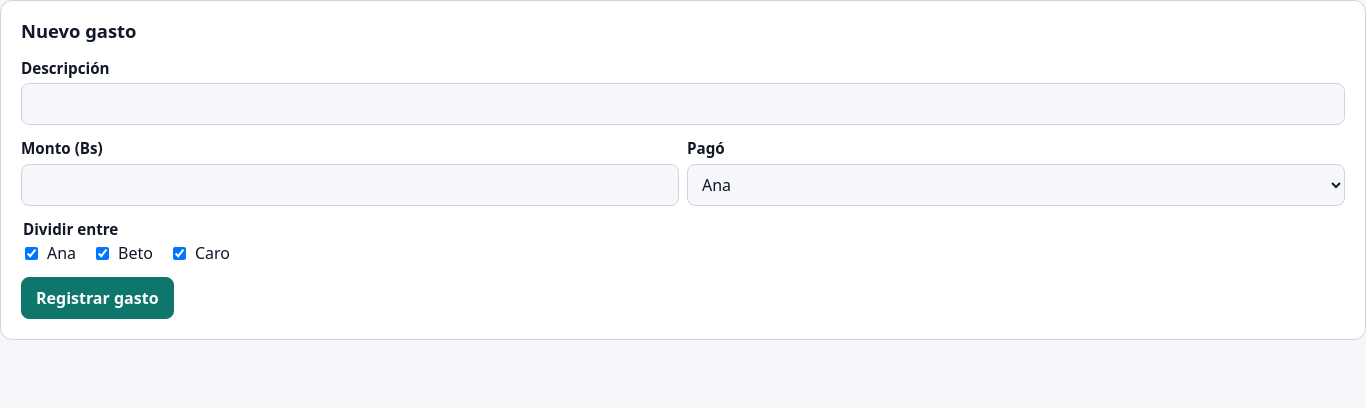
Test case: ExpenseForm (RQ-03) › clears the error messages after a valid expense
Step 1. Click the button "Registrar gasto" → (97, 298), box x1=21 y1=277 x2=174 y2=319
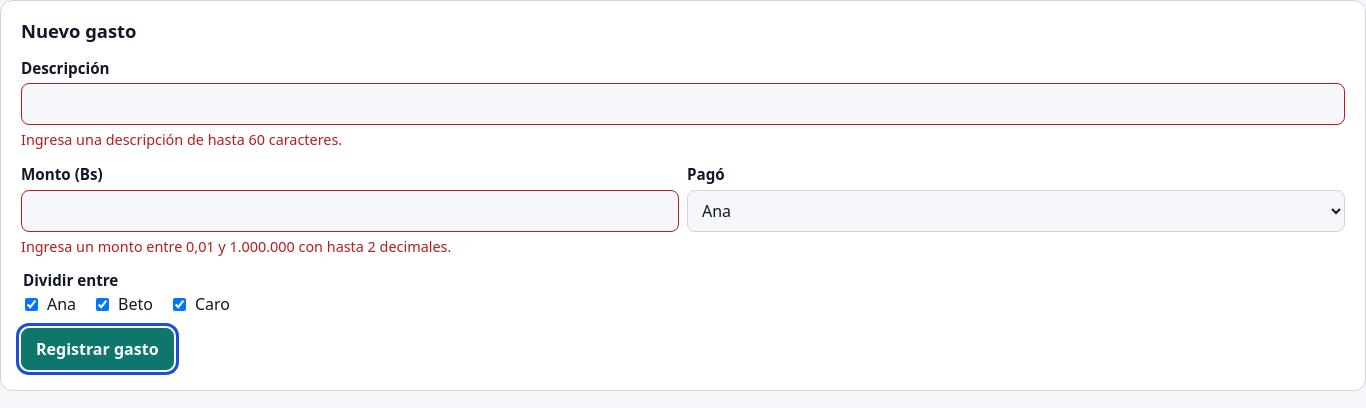
Step 2. Type "Cena" into the field labelled "Descripción" → (683, 104), box x1=21 y1=83 x2=1345 y2=125
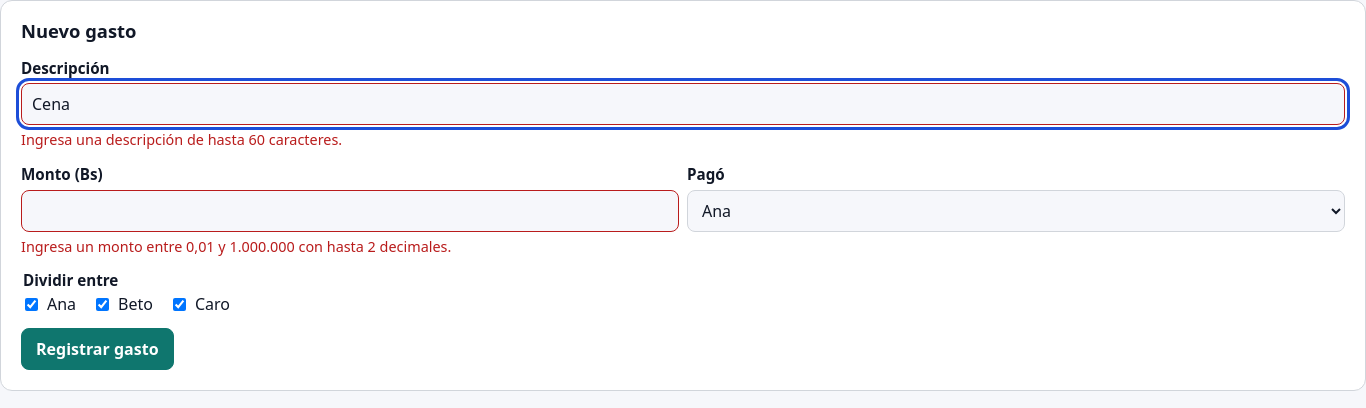
Step 3. Type "50" into the field labelled "Monto (Bs)" → (350, 211), box x1=21 y1=190 x2=679 y2=232
Then press Enter
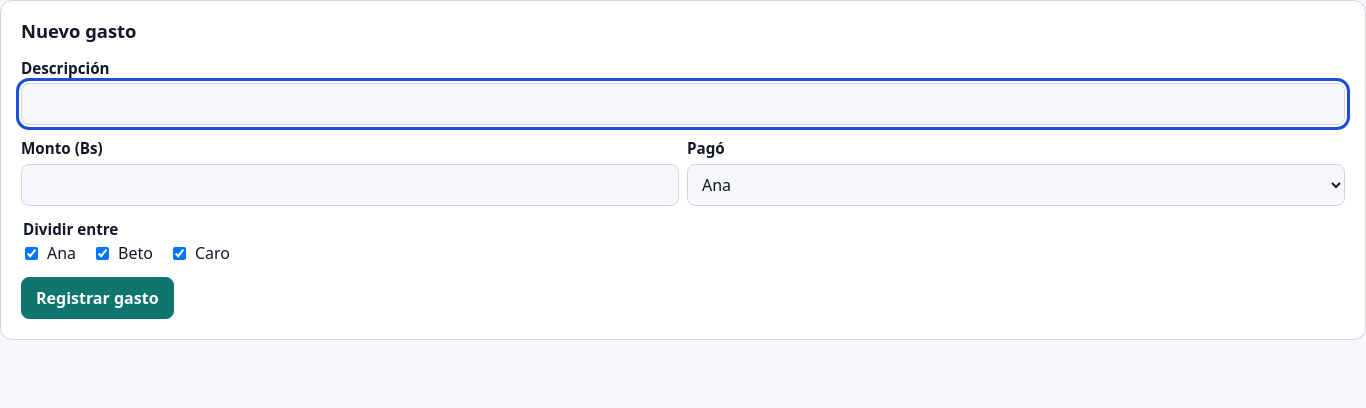
Expected: the text "Ingresa una descripción de hasta 60 caracteres." is gone
